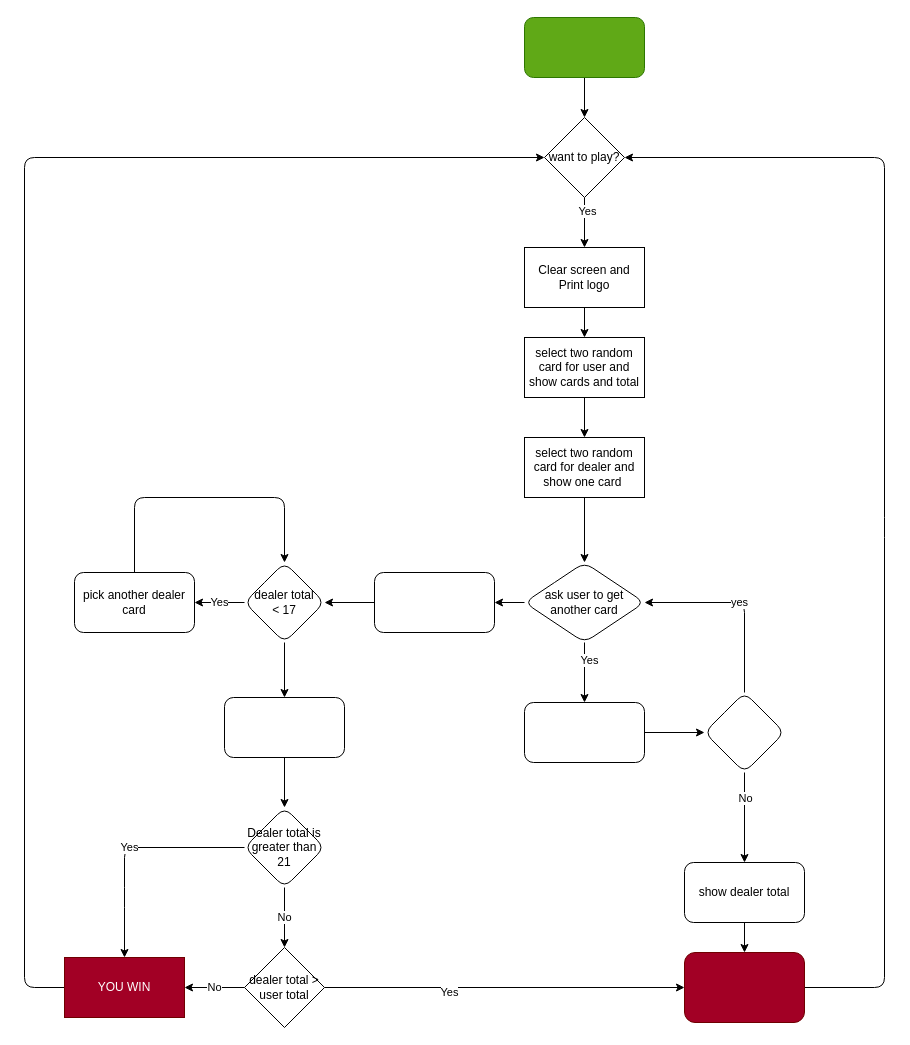
This 910x1045 diagram has some shape labels left out. Here are the shapes that lost their labels. From the top down, the box of each, then its label:
(524, 16, 644, 78): START
(374, 572, 494, 632): show user final hand and final score
(224, 696, 344, 758): show dealer final hand
(524, 702, 644, 762): Pick a random card and show total
(704, 692, 784, 772): user total < 21
(684, 952, 804, 1022): YOU LOSE
